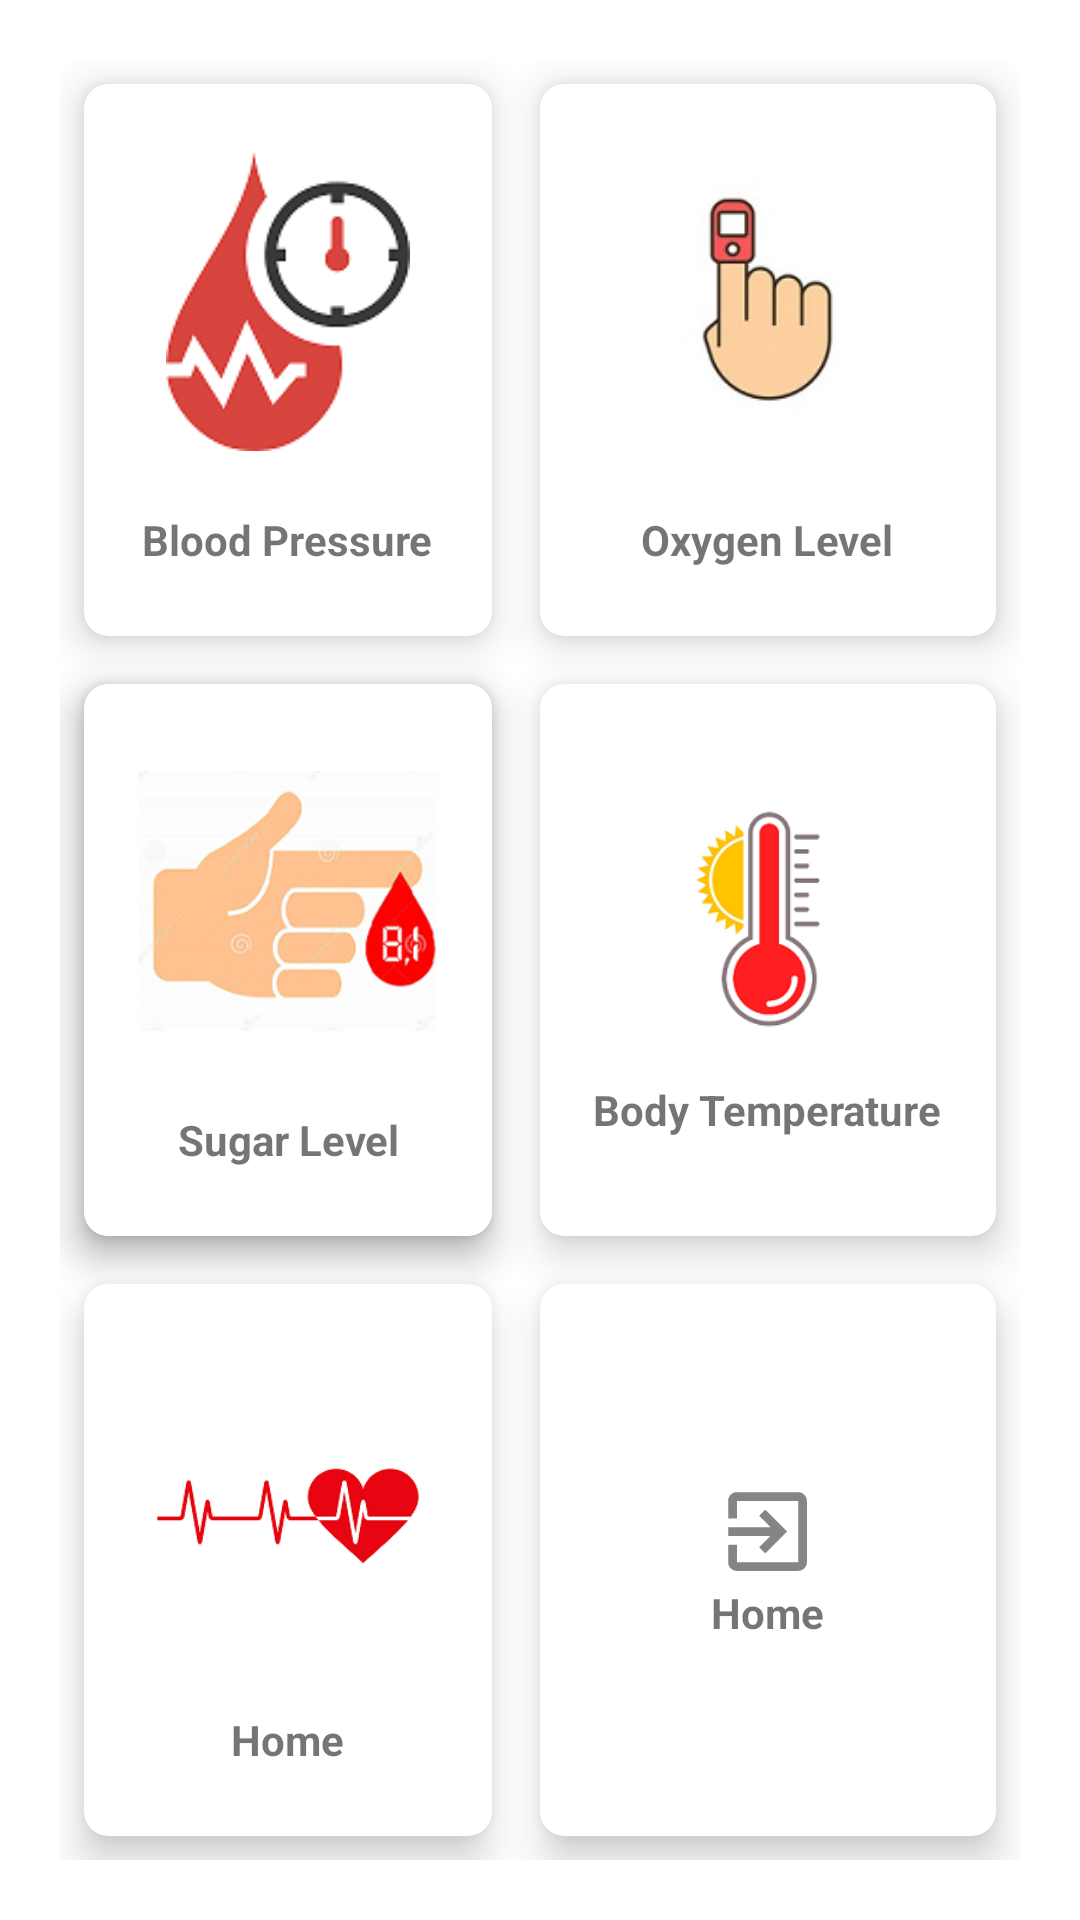

Icon bounding boxes for this 1080 × 1920 phone screenshot, format (x1, y1, x2, y2):
heart: (157, 1468, 419, 1564)
